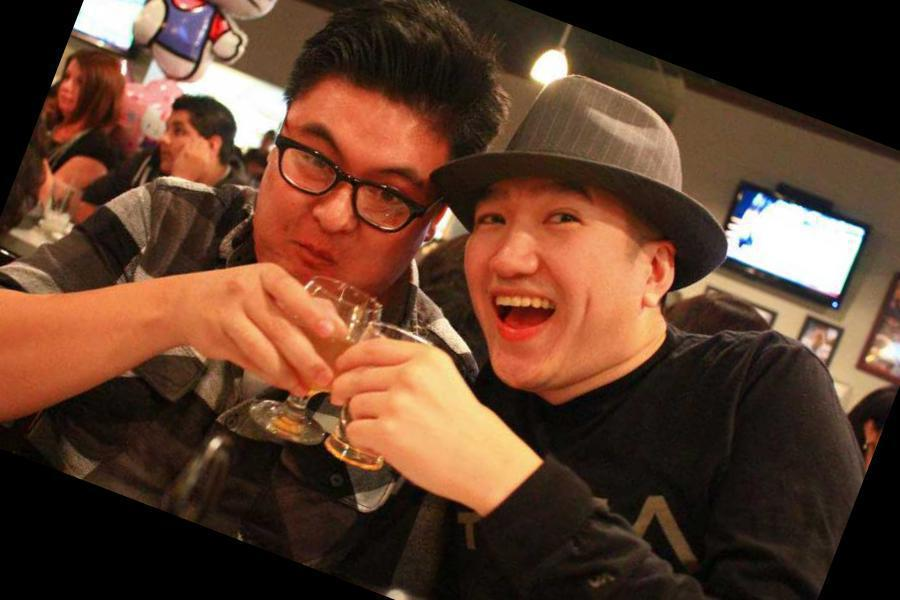Drunk: (469, 182, 621, 386), (262, 98, 417, 289)
